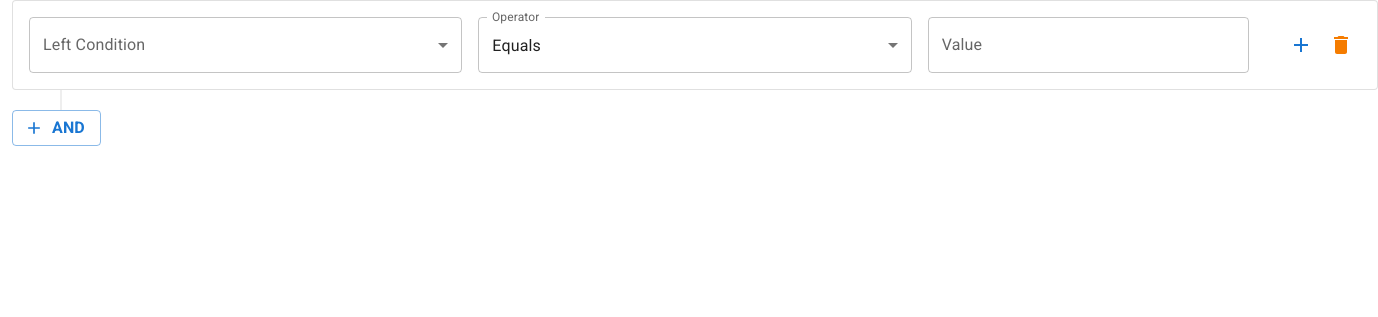
Test case: Filter Component Tests › should add a new condition group when the and button is clicked
Click the button "AND" at [56, 128], box [12,110,101,146]
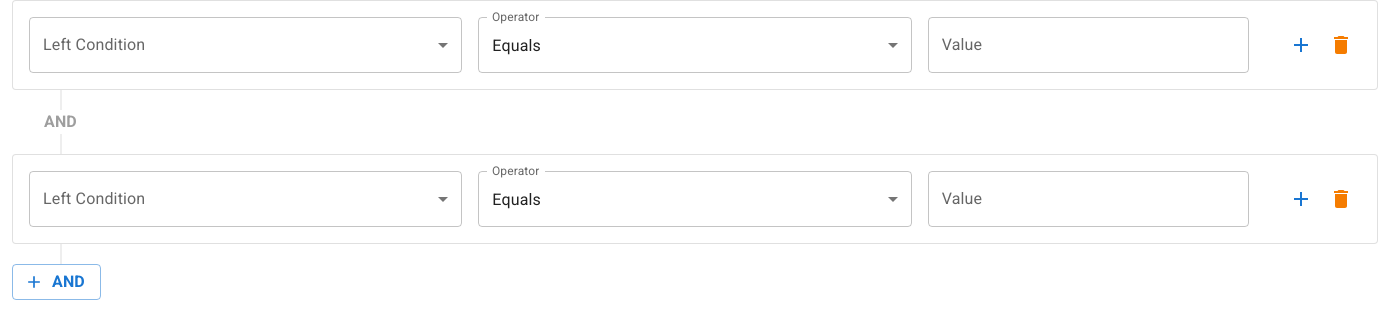
Check: the text "AND" is shown 2 times, box [44,112,77,131]; [52,270,85,294]
